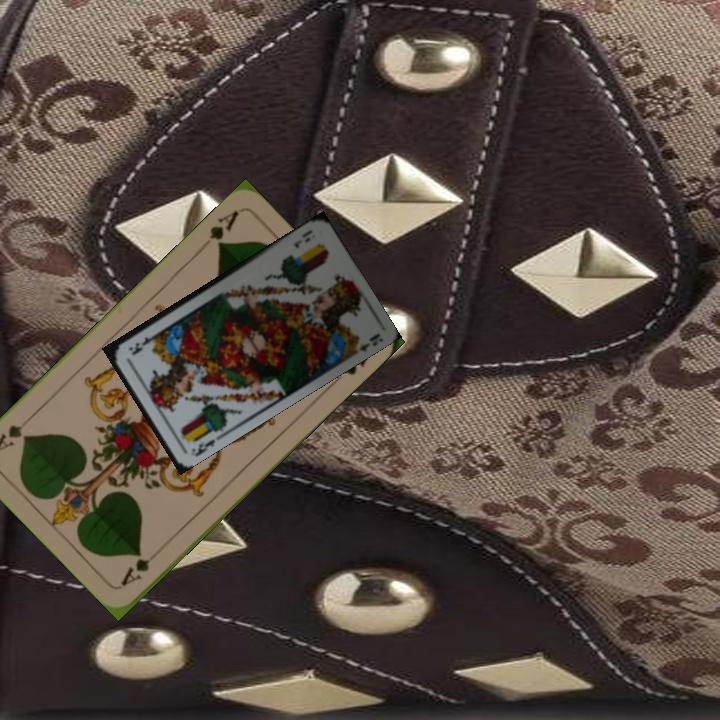EK: (191, 435, 218, 459), (290, 226, 315, 251)
GA: (196, 206, 242, 254), (117, 554, 153, 589)
